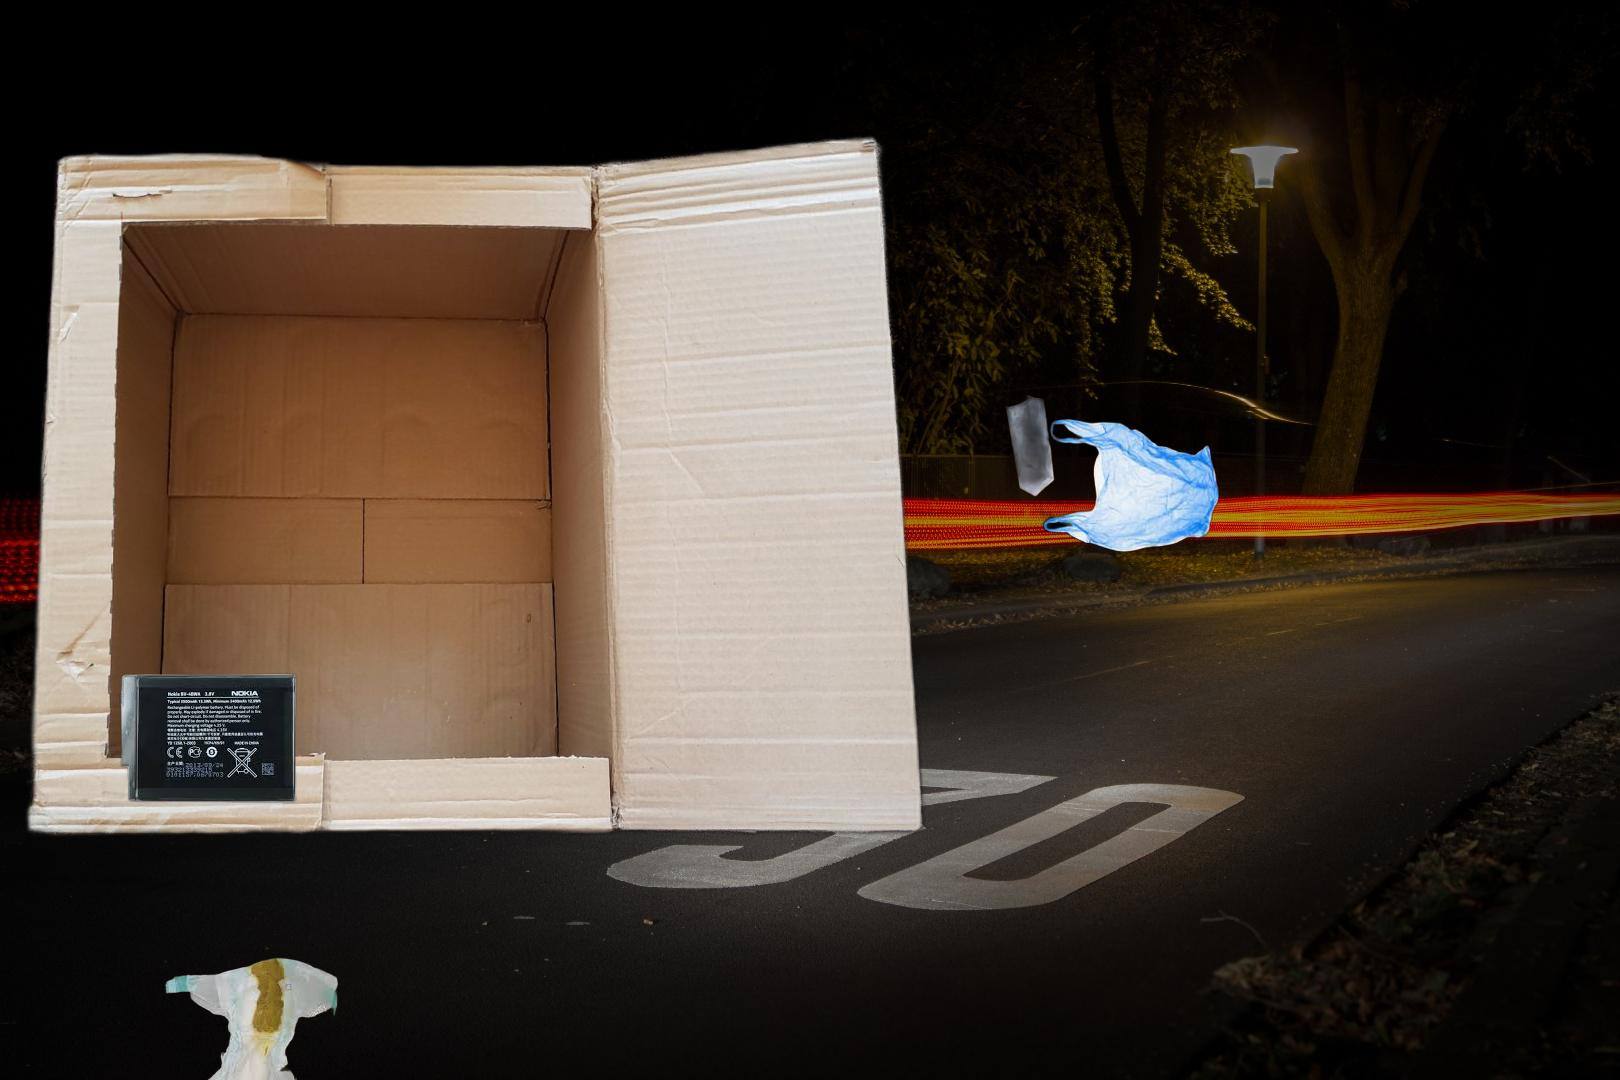battery: (117, 671, 299, 806)
plastic-bag: (1004, 391, 1222, 554)
trash: (162, 955, 341, 1080)
trashbox-cardboard: (18, 127, 931, 844)
